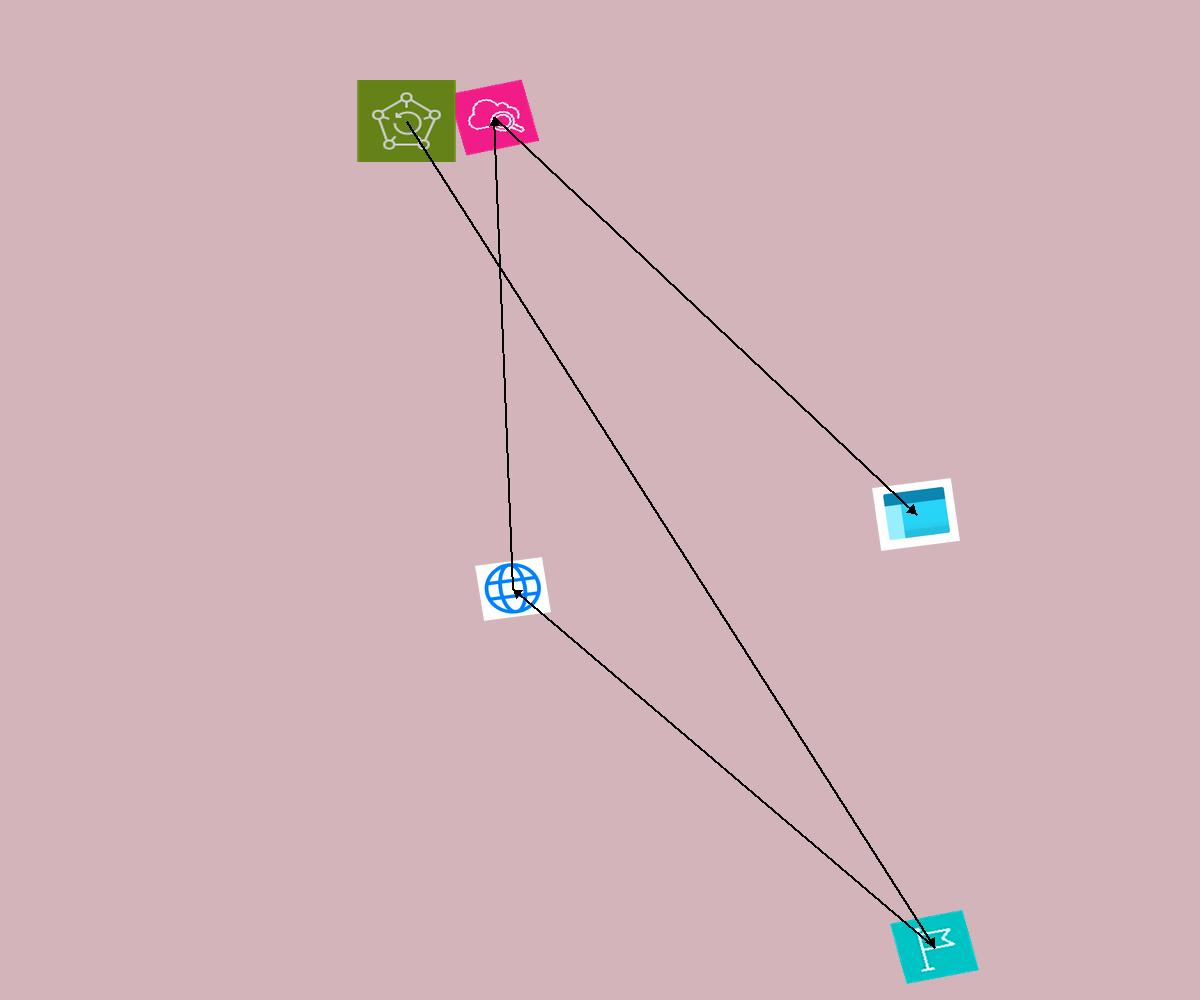AWS-Backup: (356, 79, 457, 163)
AWS-CloudWatch: (448, 79, 540, 156)
AWS-Region: (890, 910, 979, 984)
Azure_http: (475, 557, 551, 621)
Azure_management-portal: (872, 478, 960, 551)
